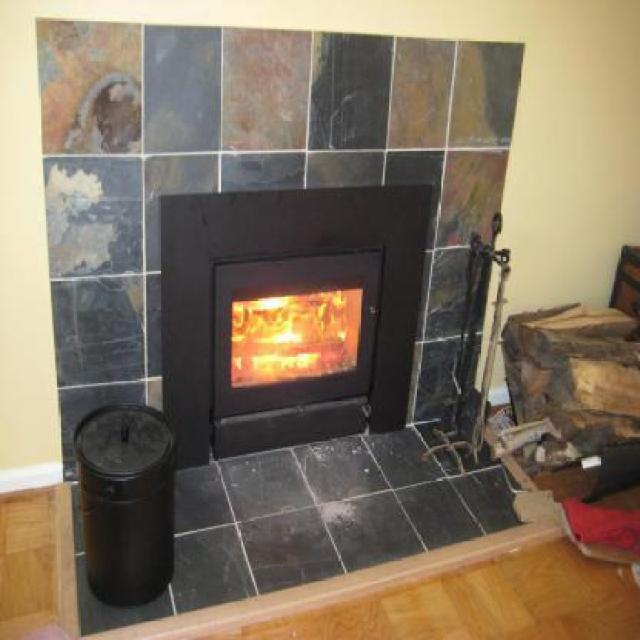Fire: (233, 298, 349, 380)
